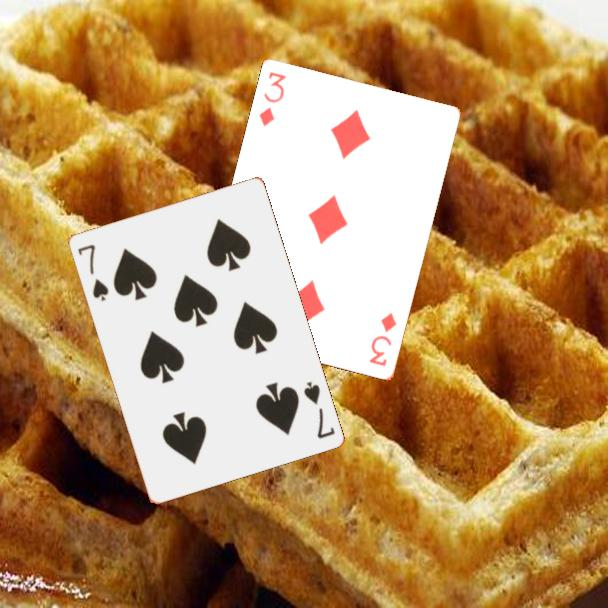d03: (255, 69, 289, 130), (366, 309, 400, 369)
s07: (300, 378, 338, 441), (74, 241, 111, 304)
